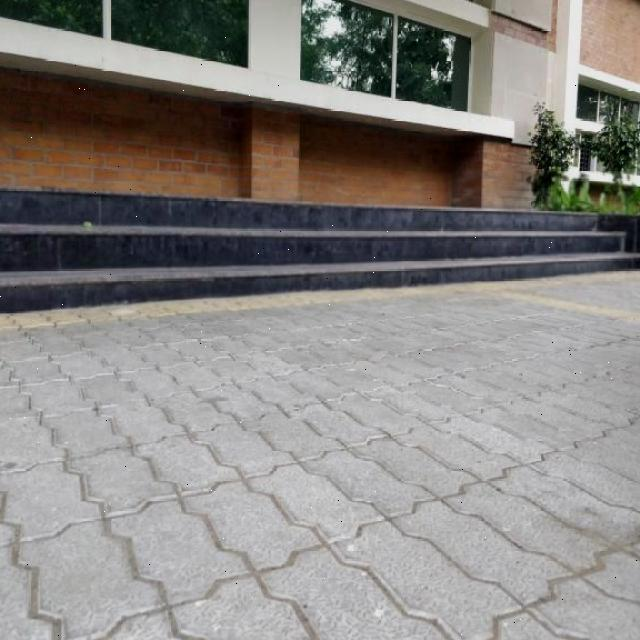stair: (0, 170, 637, 313)
